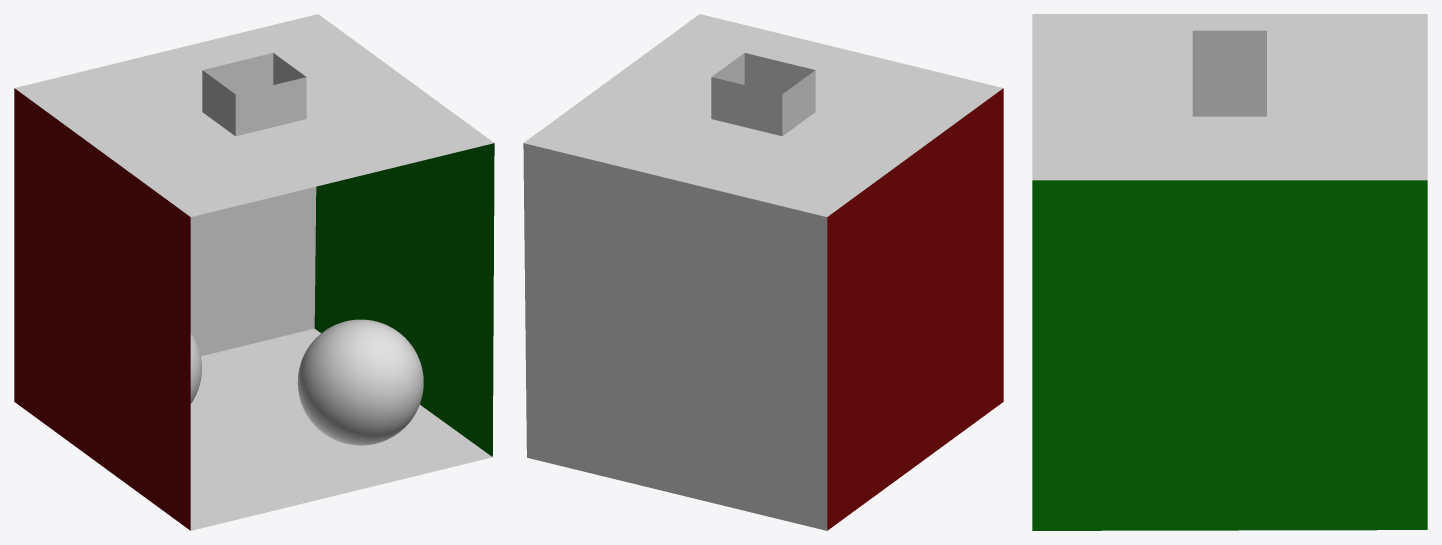
The model's file is cornellbox_spheres_phong2.DAE.
3 views of the same model, side by side, from view 1: azimuth 30°, elevation 25°; view 2: azimuth 150°, elevation 25°; view 3: azimuth 270°, elevation 25° (orthographic). The views are drawn at different scales.
Visible parts, largest first — view 1: object2, object4, object3, Sphere002, Sphere001; view 2: object2, object4; view 3: object3, object2.
Part boxes in pixels (bbox=[...]): object2: bbox=[14, 14, 493, 530]; object4: bbox=[14, 88, 190, 530]; object3: bbox=[314, 143, 494, 456]; Sphere002: bbox=[297, 319, 423, 445]; Sphere001: bbox=[190, 332, 201, 403]; object2: bbox=[523, 14, 1003, 530]; object4: bbox=[827, 88, 1003, 530]; object3: bbox=[1032, 180, 1427, 530]; object2: bbox=[1032, 14, 1427, 180].
Size of the model in its own units: 556 by 559 by 622.
